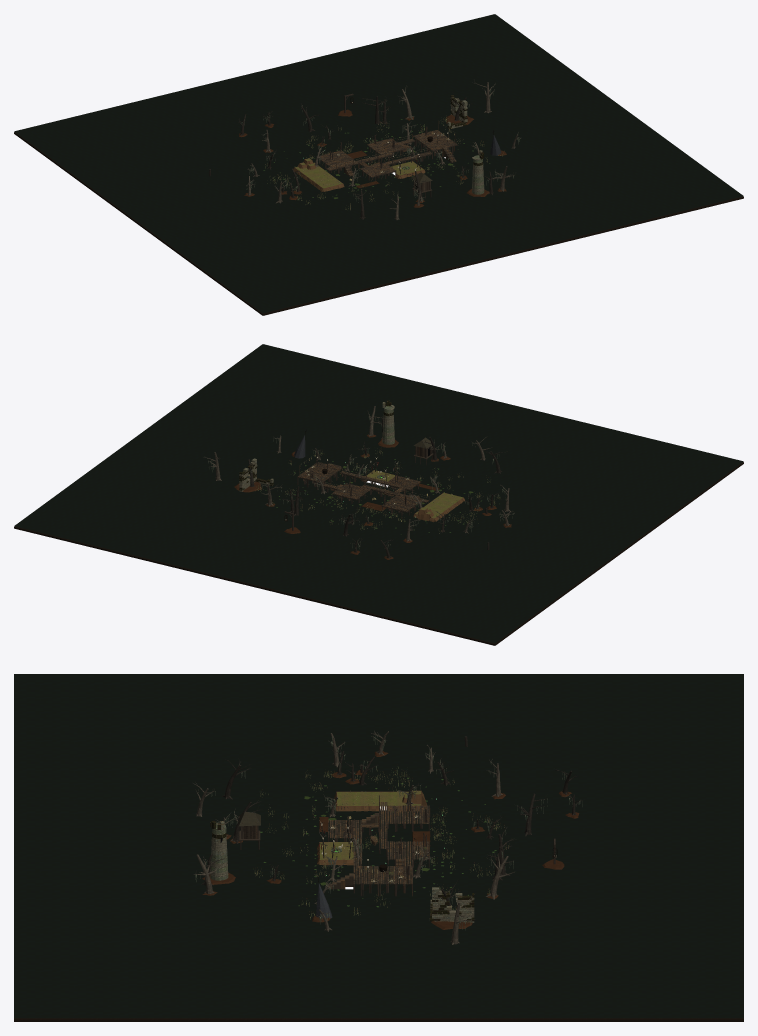
File: stilt_hollows.glb
3 views of the same model, one above another, from view 1: azimuth 30°, elevation 25°; view 2: azimuth 150°, elevation 25°; view 3: azimuth 270°, elevation 25° (orthographic). The views are drawn at different scales.
Parts seen in each view (by area): view 1: FX_Water swamp, Far trees, Outer bed, Boardwalks, Timber, Banks, Far ruins, Reeds, Fen grass, Hanging moss; view 2: FX_Water swamp, Far trees, Outer bed, Boardwalks, Timber, Far ruins, Reeds, Banks, Fen grass, Hanging moss; view 3: FX_Water swamp, Far trees, Boardwalks, Outer bed, Timber, Far ruins, Reeds, Banks, Fen grass, Hanging moss, Far banks, Far roofs (+1 smaller).
Boxes of the visible parts, left/top/right/bottom form: FX_Water swamp: left=14, top=14, right=743, bottom=313; Far trees: left=209, top=80, right=520, bottom=219; Outer bed: left=14, top=132, right=743, bottom=315; Boardwalks: left=316, top=130, right=457, bottom=176; Timber: left=319, top=120, right=457, bottom=181; Banks: left=239, top=117, right=506, bottom=207; Far ruins: left=447, top=95, right=484, bottom=194; Reeds: left=263, top=113, right=504, bottom=210; Fen grass: left=295, top=161, right=423, bottom=188; Hanging moss: left=241, top=86, right=519, bottom=202; FX_Water swamp: left=14, top=344, right=743, bottom=643; Far trees: left=203, top=406, right=514, bottom=558; Outer bed: left=14, top=462, right=743, bottom=645; Boardwalks: left=298, top=462, right=428, bottom=511; Timber: left=297, top=452, right=429, bottom=516; Far ruins: left=239, top=400, right=394, bottom=491; Reeds: left=255, top=447, right=500, bottom=534; Banks: left=249, top=434, right=511, bottom=559; Fen grass: left=367, top=470, right=462, bottom=518; Hanging moss: left=207, top=417, right=513, bottom=549; FX_Water swamp: left=14, top=674, right=743, bottom=1018; Far trees: left=193, top=731, right=584, bottom=944; Boardwalks: left=328, top=802, right=429, bottom=884; Outer bed: left=14, top=1018, right=743, bottom=1021; Timber: left=319, top=795, right=430, bottom=896; Far ruins: left=210, top=820, right=474, bottom=922; Reeds: left=253, top=764, right=509, bottom=919; Banks: left=202, top=751, right=579, bottom=898; Fen grass: left=319, top=792, right=420, bottom=859; Hanging moss: left=195, top=734, right=582, bottom=930; Far banks: left=202, top=859, right=564, bottom=929; Far roofs: left=238, top=811, right=332, bottom=918.
Size of the model in its own units: 96 by 9.05 by 86.
Materials: 36 (36 with a texture image).
